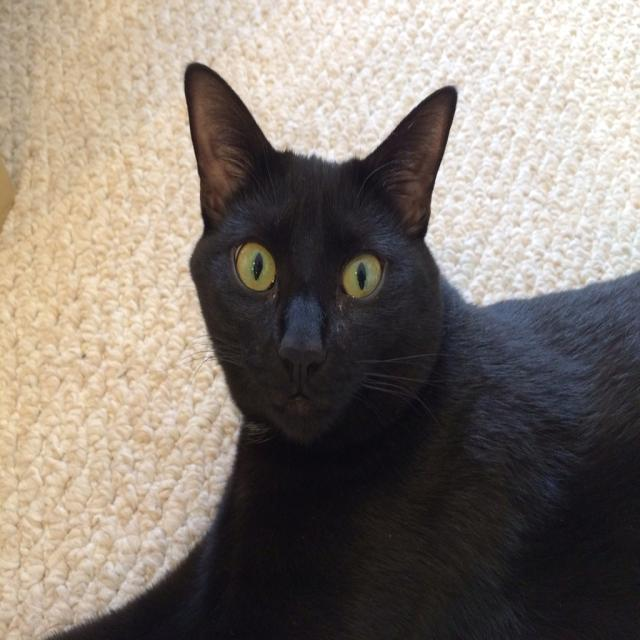Cat: (40, 60, 639, 639)
